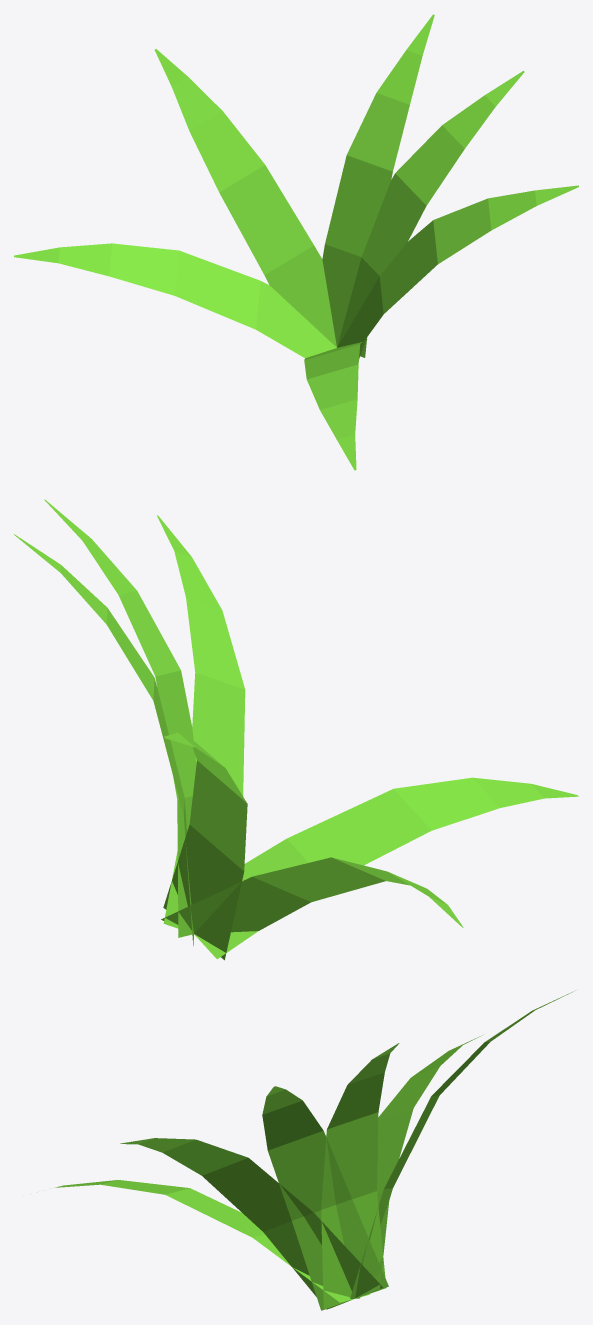
File: grass-005.glb
The picture shows the model from 3 angles, top to bottom: view 1: azimuth 30°, elevation 25°; view 2: azimuth 150°, elevation 25°; view 3: azimuth 270°, elevation 25°; orthographic projection. The views are drawn at different scales.
Visible parts, largest first — view 1: grass 3_57; view 2: grass 3_57; view 3: grass 3_57.
Boxes of the visible parts, x1,y1,x2,y2 form: grass 3_57: (14, 14, 578, 470); grass 3_57: (14, 499, 578, 960); grass 3_57: (54, 990, 575, 1310).
Size of the model in its own units: 0.7396 by 0.5215 by 0.7958.
